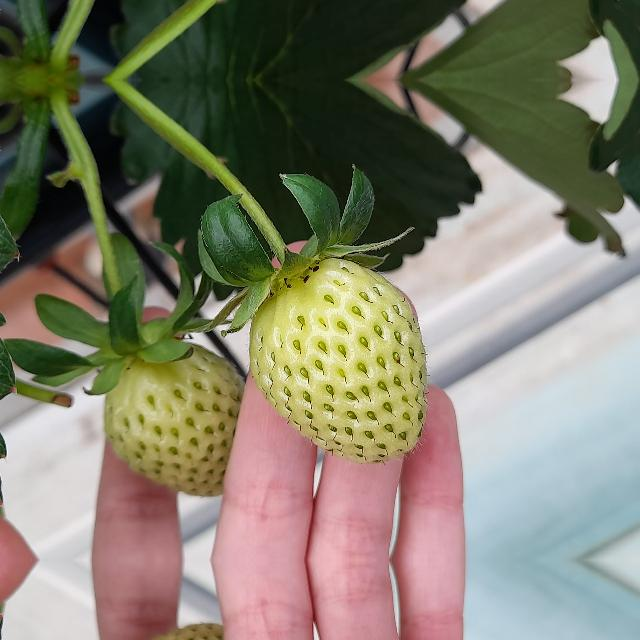Health_25: (249, 258, 429, 464), (102, 335, 245, 501)
